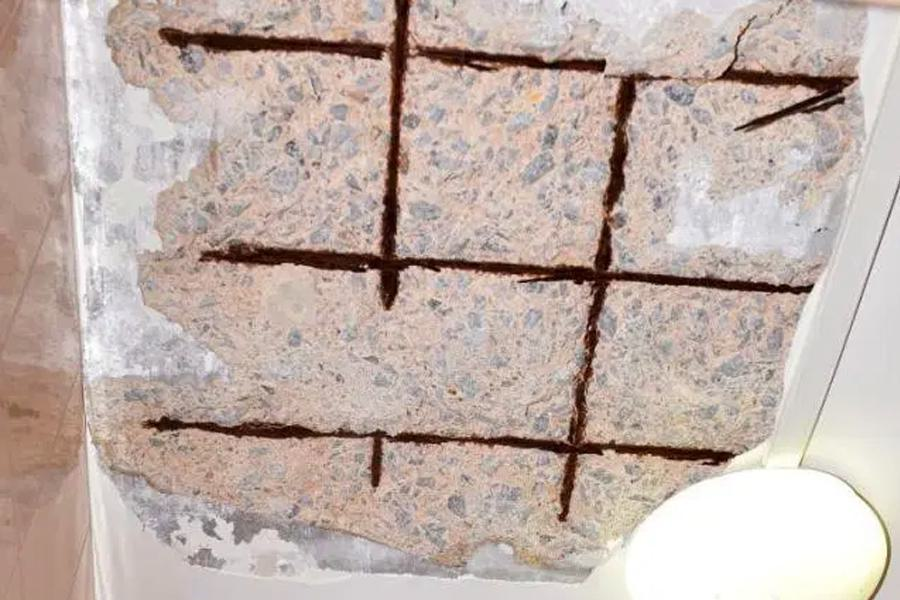Exposed reinforcement: (554, 73, 638, 523), (194, 241, 816, 295), (137, 413, 740, 467), (378, 1, 413, 313), (158, 26, 386, 61), (413, 43, 607, 74), (713, 67, 860, 95), (732, 95, 837, 131), (798, 97, 846, 115), (369, 437, 385, 490)
Spalling: (83, 1, 868, 585)
